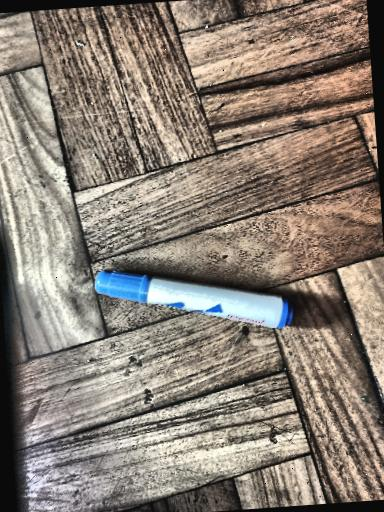marcador azul: (95, 270, 293, 328)
